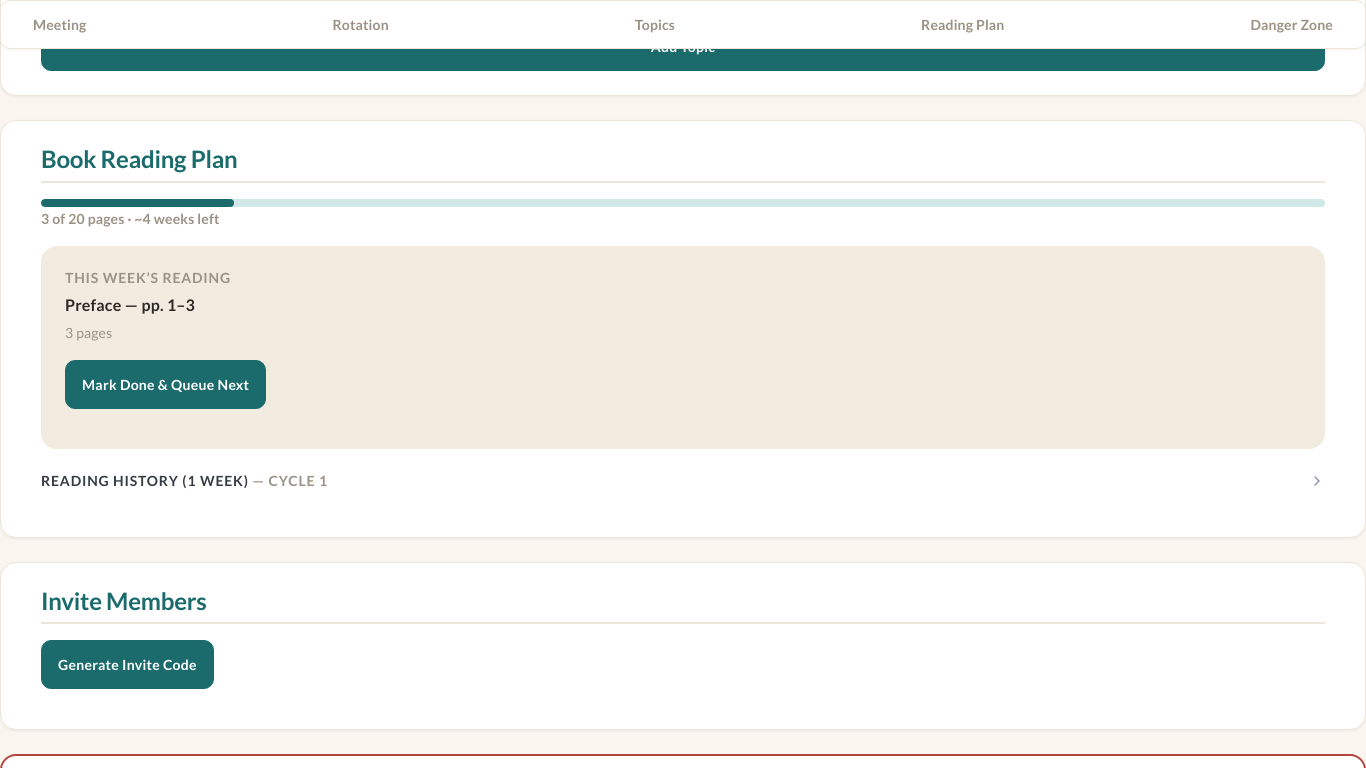
Scenario: Settings › enters queue mode and auto-suggests chapters
(page scrolled)
Click the button "Mark Done & Queue Next" at (166, 384), box top-left (65, 360), bottom-right (266, 409)
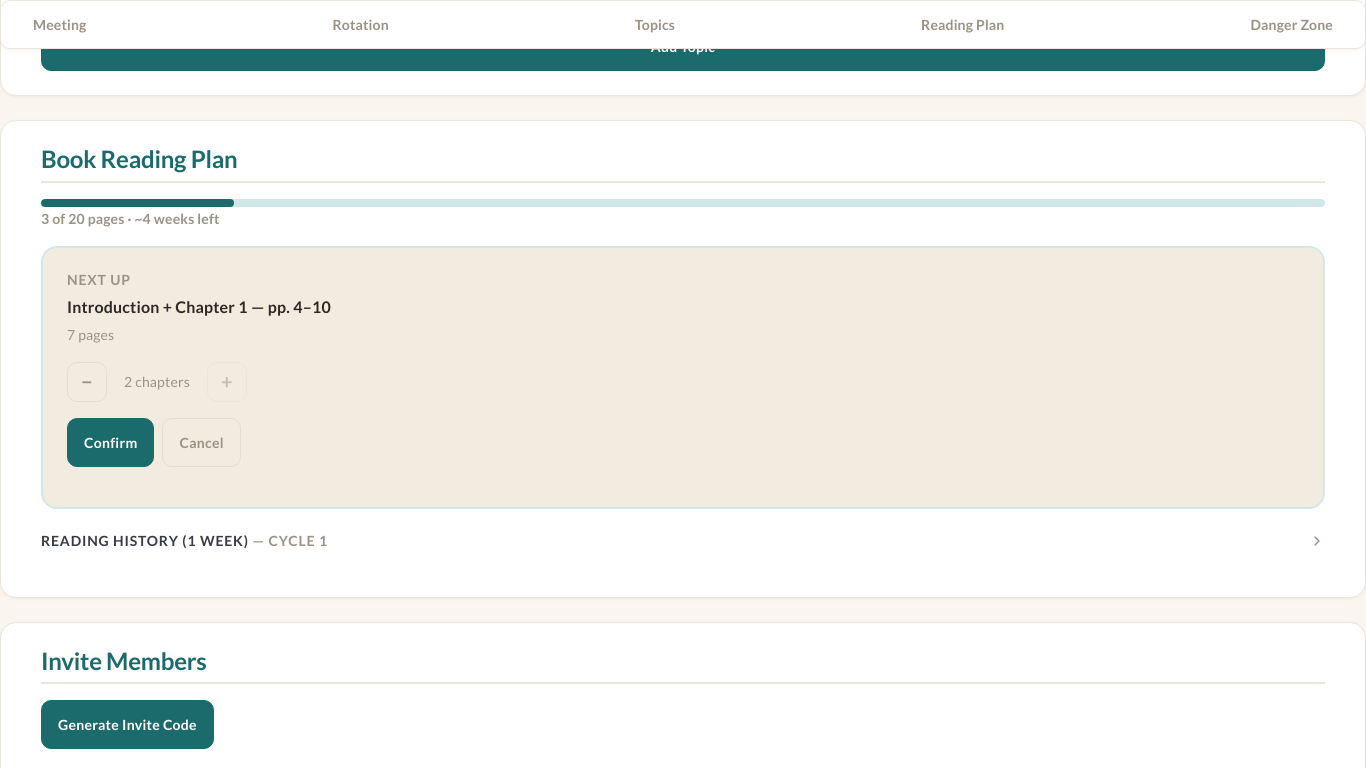
Result: the heading "Next Up" is shown at top-left (67, 271), bottom-right (131, 288)
Result: the text "Introduction + Chapter 1 — pp. 4–10" is shown at top-left (67, 297), bottom-right (331, 316)
Result: the text "7 pages" is shown at top-left (67, 326), bottom-right (114, 343)
